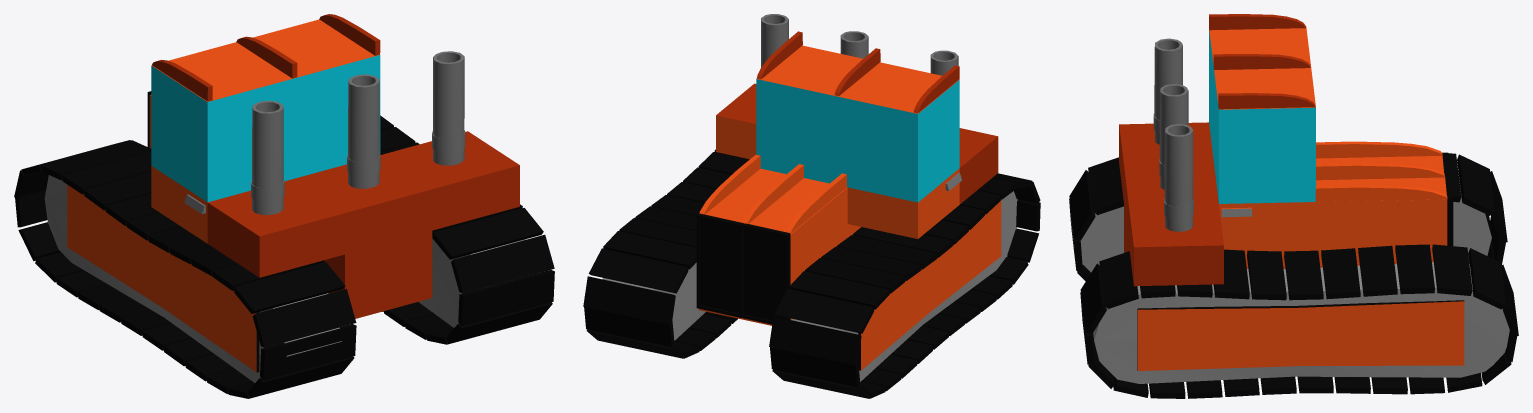
File: Bulldozer_Body.fbx
The picture shows the model from 3 angles, left to right: view 1: azimuth 30°, elevation 25°; view 2: azimuth 150°, elevation 25°; view 3: azimuth 270°, elevation 25°; orthographic projection. The views are drawn at different scales.
Parts seen in each view (by area): view 1: Bulldozer_Carroceria; view 2: Bulldozer_Carroceria; view 3: Bulldozer_Carroceria.
Part boxes in pixels (x1,y1,x2,y2): Bulldozer_Carroceria: (14,14,554,398); Bulldozer_Carroceria: (583,14,1040,398); Bulldozer_Carroceria: (1069,14,1518,398).
Size of the model in its own units: 825 by 679 by 1073.
